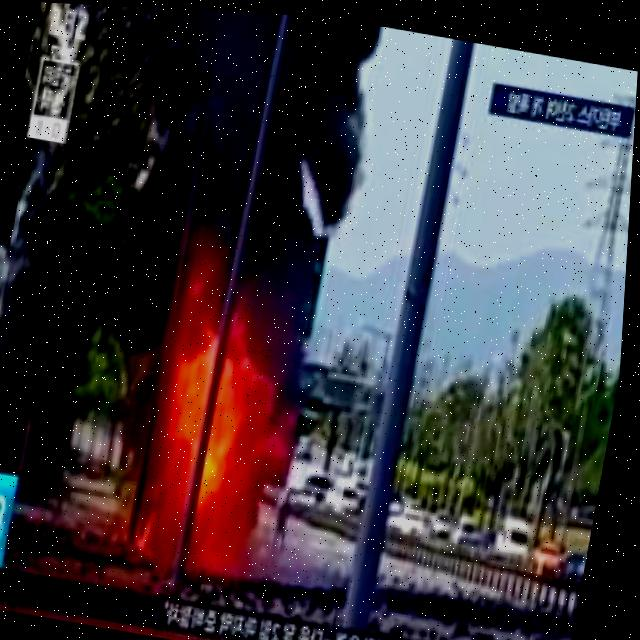Fire: (131, 349, 282, 587)
Smoke: (98, 5, 395, 314)
